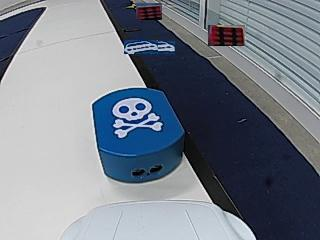danger: (112, 99, 159, 138)
